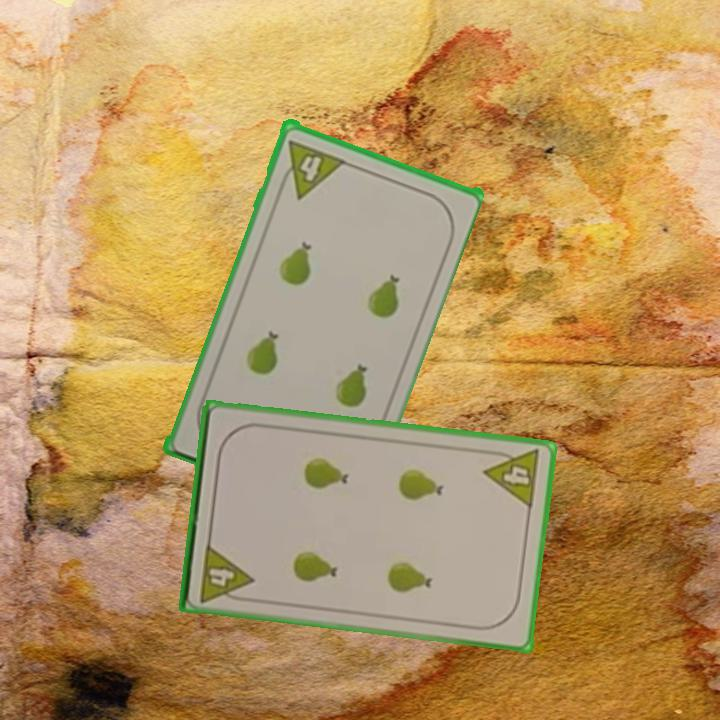4p: (274, 136, 346, 201), (480, 446, 544, 511), (196, 540, 256, 606)
